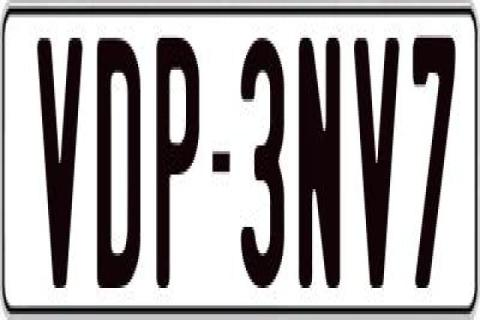0: (413, 32, 459, 285), (242, 38, 286, 300)
D: (98, 35, 142, 303)
N: (298, 32, 342, 285)
P: (156, 29, 206, 291)
V: (36, 32, 86, 291), (354, 35, 402, 303)
